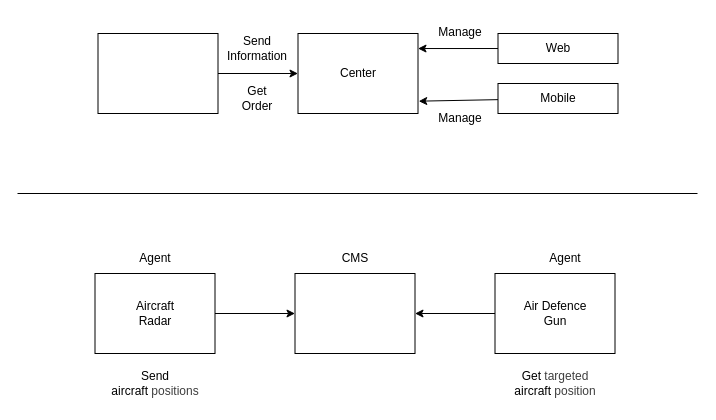
This 716x420 diagram has some shape labels left out. Here are the shapes that lost their labels. From the top down, the box of each, then its label:
(97, 32, 218, 114): Agents
(294, 272, 415, 354): Planning and Decision
